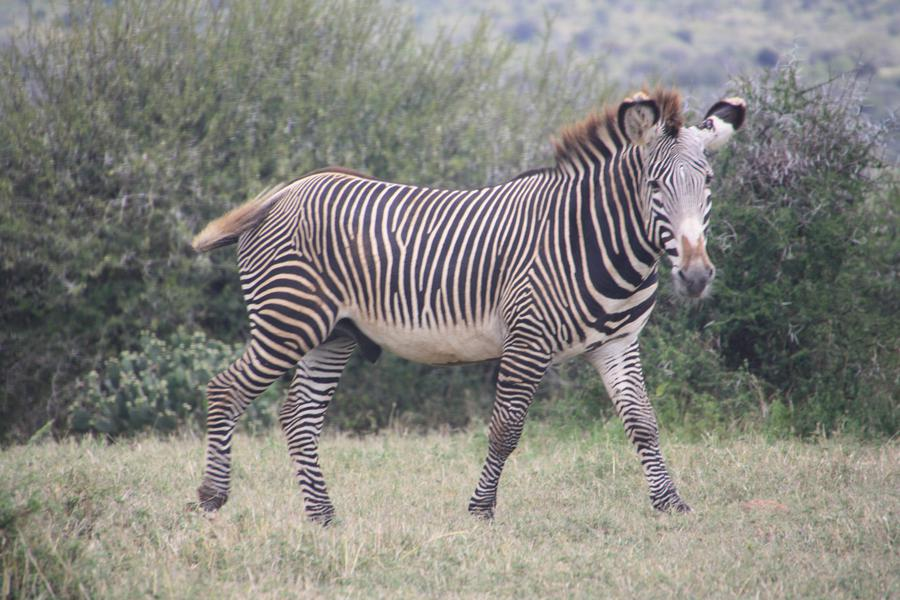zebra_grevys: (227, 128, 601, 352)
